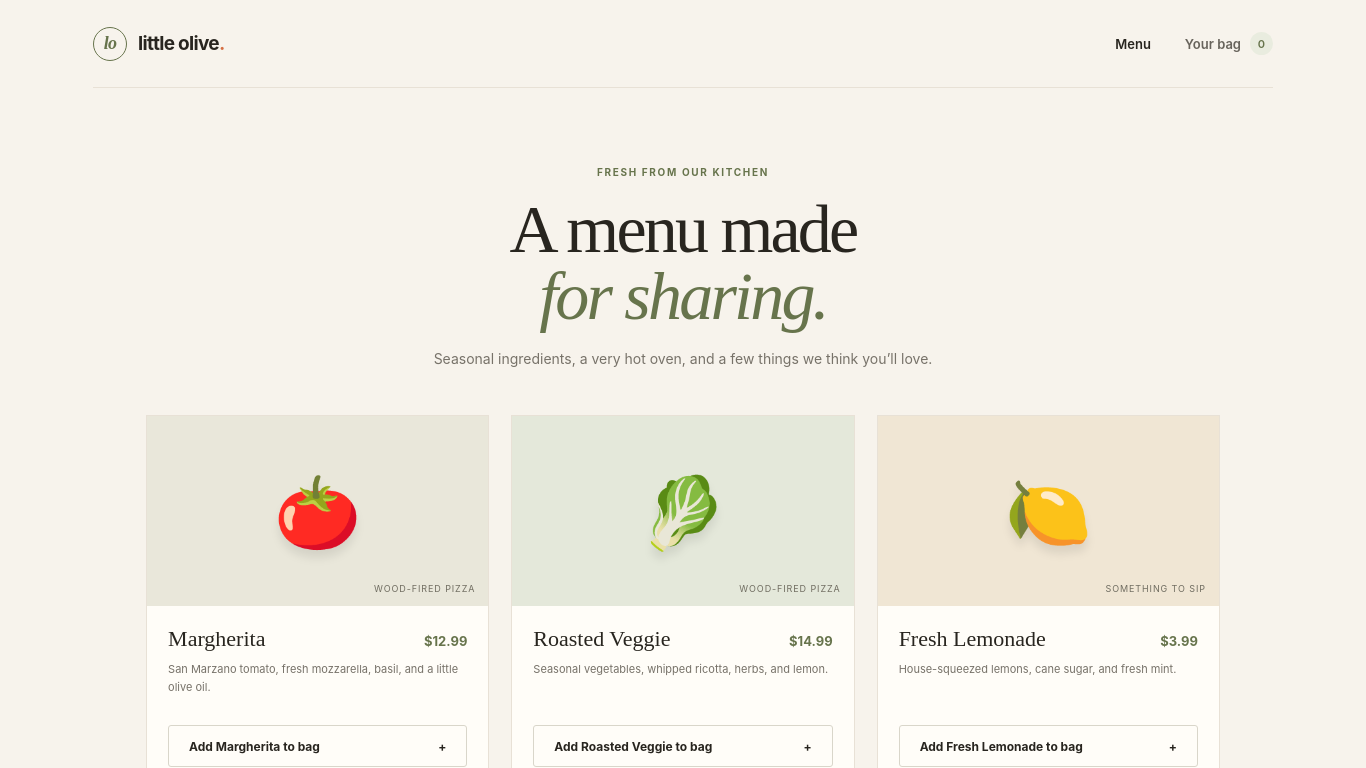
Test case: restaurant demo › tracks menu clicks and add-to-cart with item identifiers and quantity
The image size is (1366, 768).
Click the button "Add Margherita to bag +" at (318,746), box [168,725,467,767]
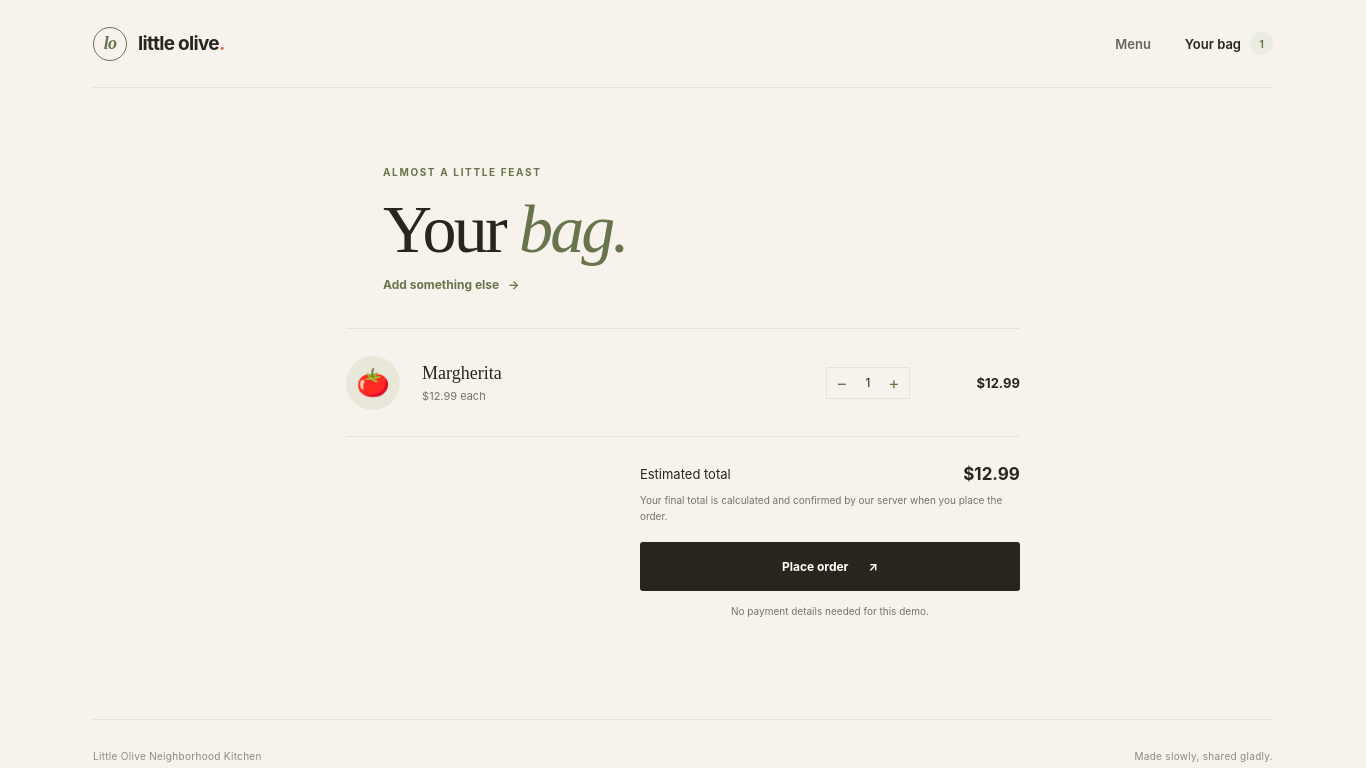
Now the text "1" in the row of "Menu" is shown, box [1259,36,1264,50]
